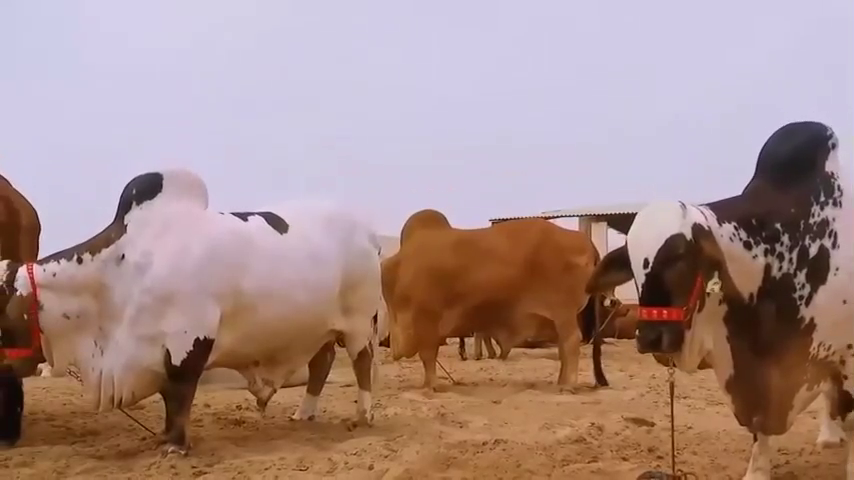bo: (3, 152, 389, 466), (585, 109, 854, 479), (360, 200, 620, 408)
